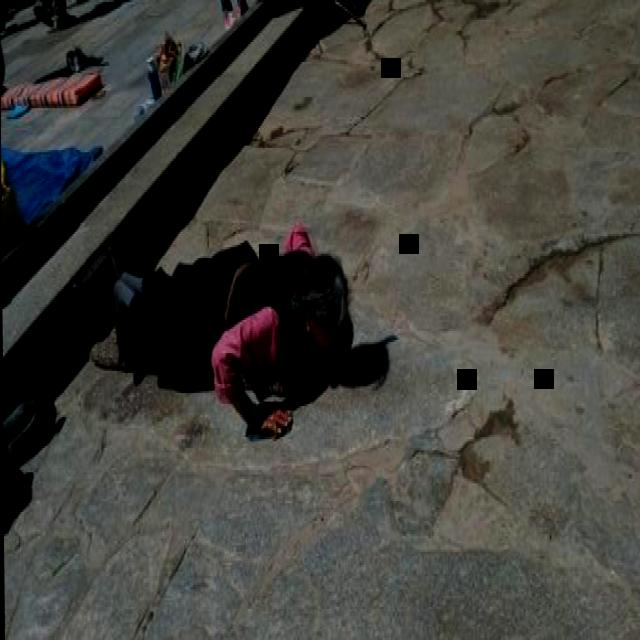Fall-Detected: (0, 22, 110, 114)
